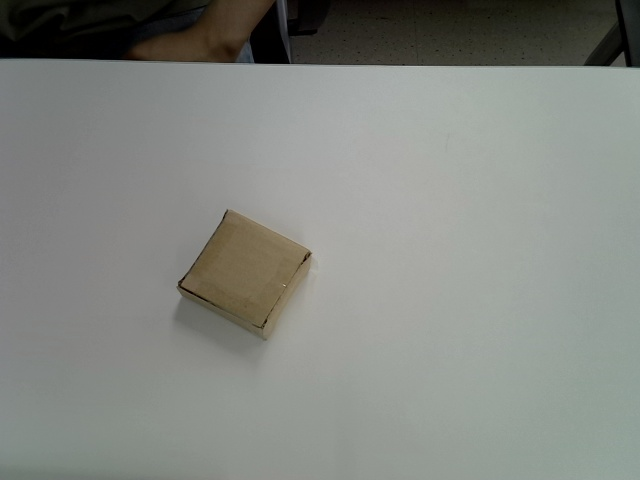normal: (177, 209, 313, 341)
